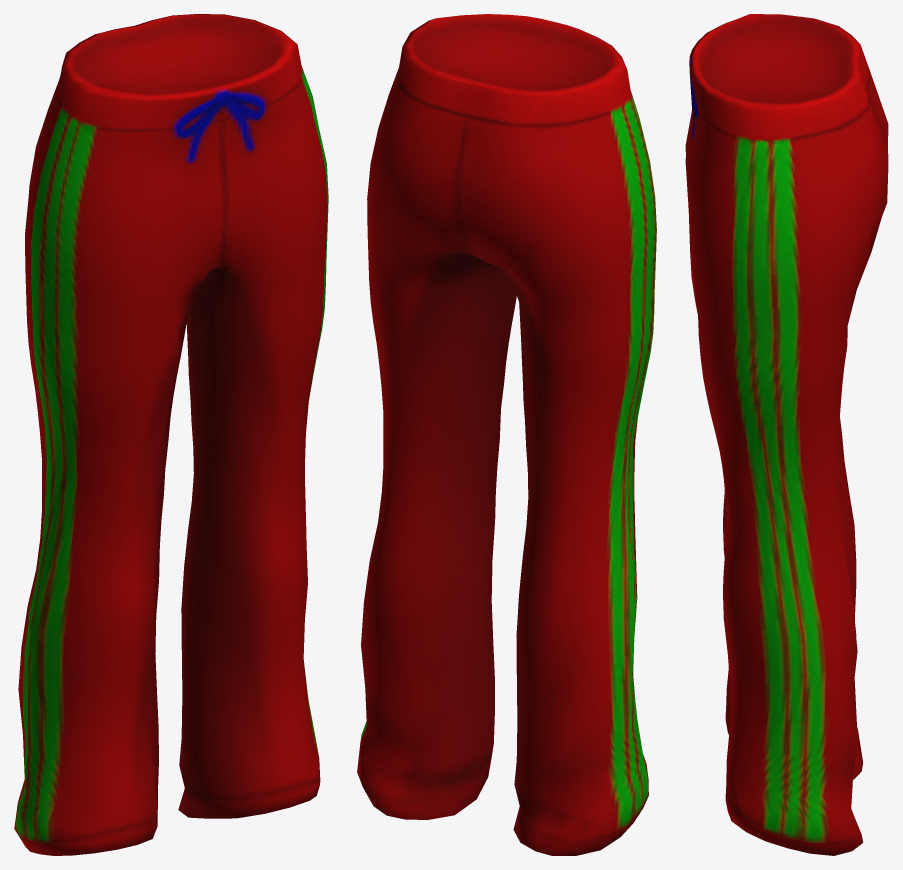
File: Bottom_SweatPants.obj
3 views of the same model, side by side, from view 1: azimuth 30°, elevation 25°; view 2: azimuth 150°, elevation 25°; view 3: azimuth 270°, elevation 25° (orthographic). The views are drawn at different scales.
Parts seen in each view (by area): view 1: Bottom_SweatPants_0; view 2: Bottom_SweatPants_0; view 3: Bottom_SweatPants_0.
Boxes of the visible parts, x1,y1,x2,y2 form: Bottom_SweatPants_0: [14, 14, 328, 855]; Bottom_SweatPants_0: [357, 14, 656, 855]; Bottom_SweatPants_0: [685, 14, 888, 855].
Bounding box in the file's own units: 0.3767 × 1 × 0.2481.
1 material, 1 textured.
